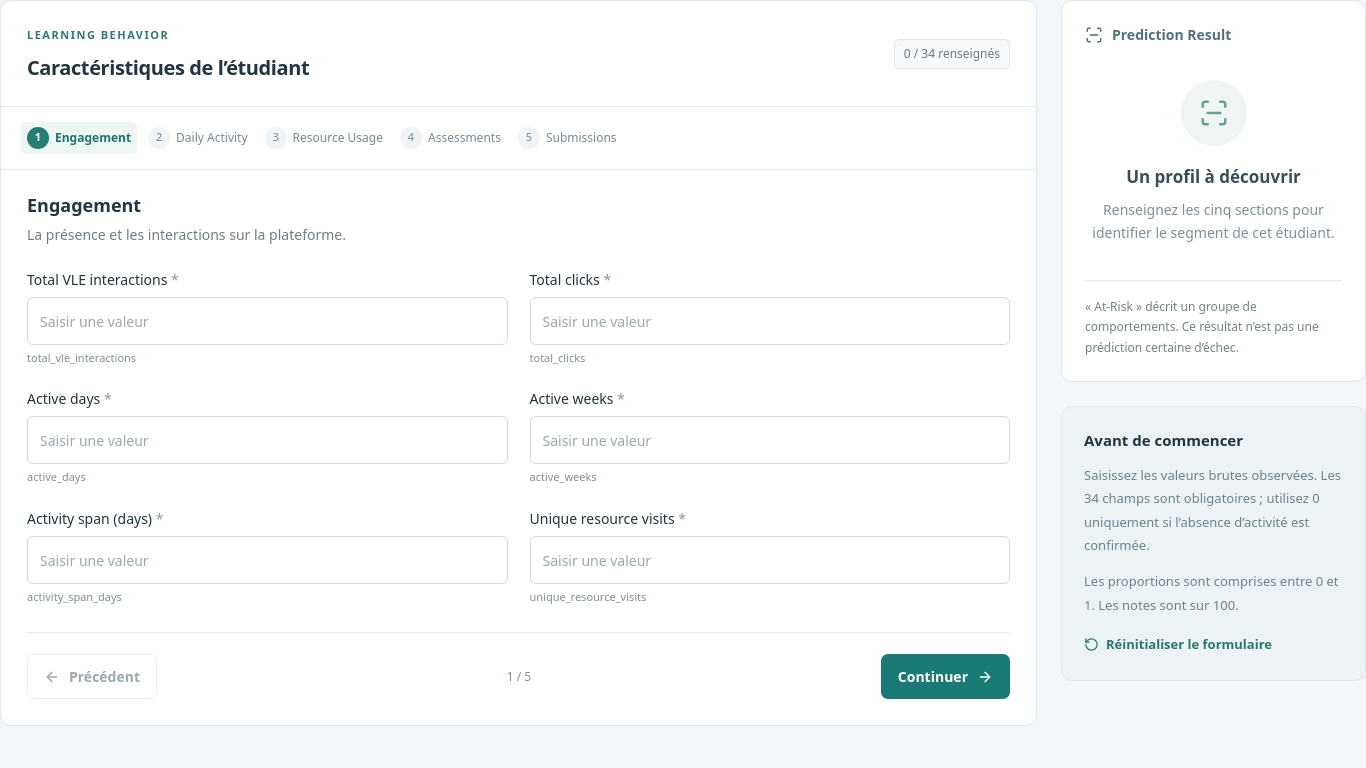
Prediction form › shows one organized section and prevents missing inputs
Expected: the number of number fields is 6, 27,297 -> 508,345; 530,297 -> 1010,345; 27,416 -> 508,464; 530,416 -> 1010,464; 27,536 -> 508,584; 530,536 -> 1010,584
What coordinates should you click on to do the following:
click the button "Continuer"
I would click on:
 (945, 677)
Its box is 881,654 -> 1010,699.
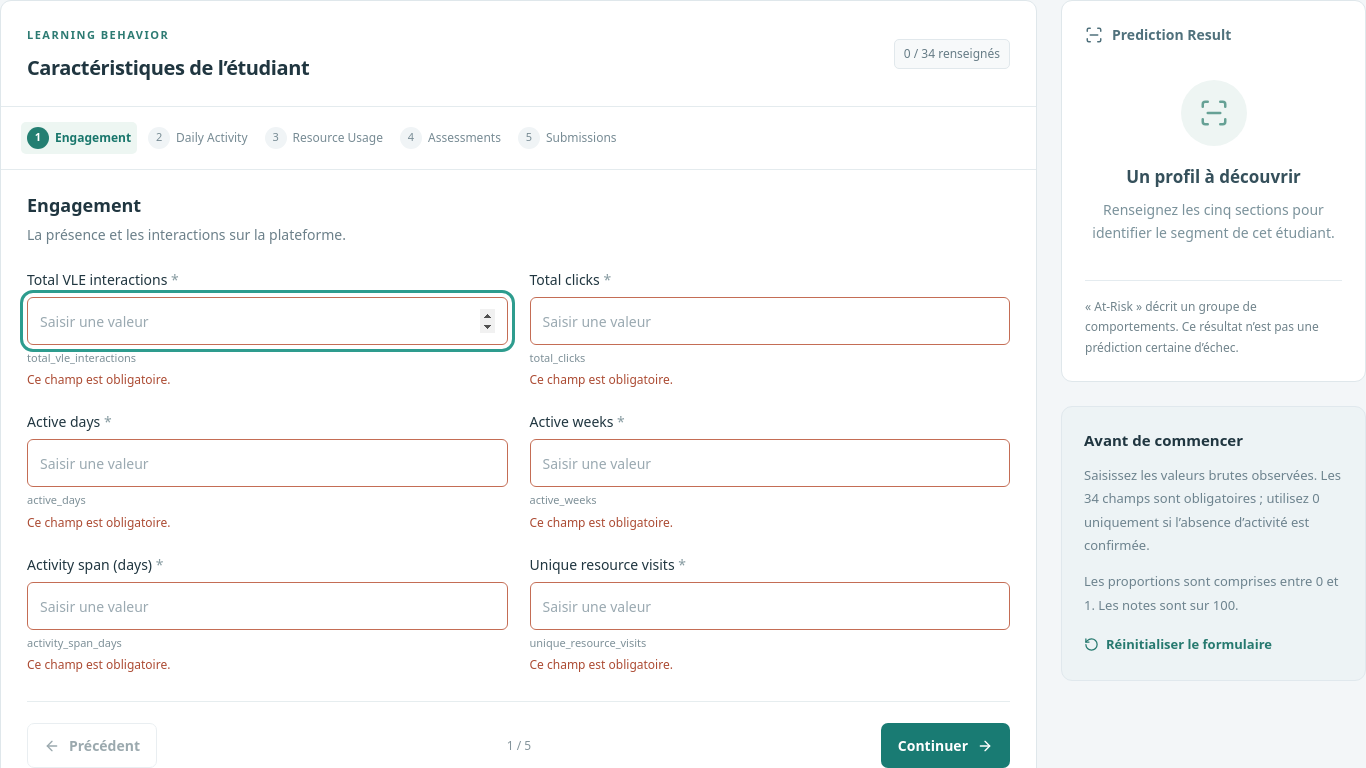
Expected: the text "Ce champ est obligatoire." is shown 6 times, 27,371 -> 170,388; 530,371 -> 673,388; 27,514 -> 170,531; 530,514 -> 673,531; 27,656 -> 170,673; 530,656 -> 673,673
